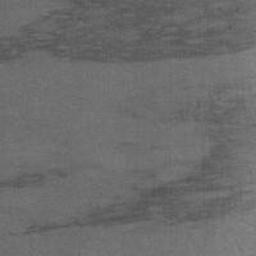Water spot: (0, 76, 256, 239), (0, 0, 256, 64), (0, 159, 100, 192)
